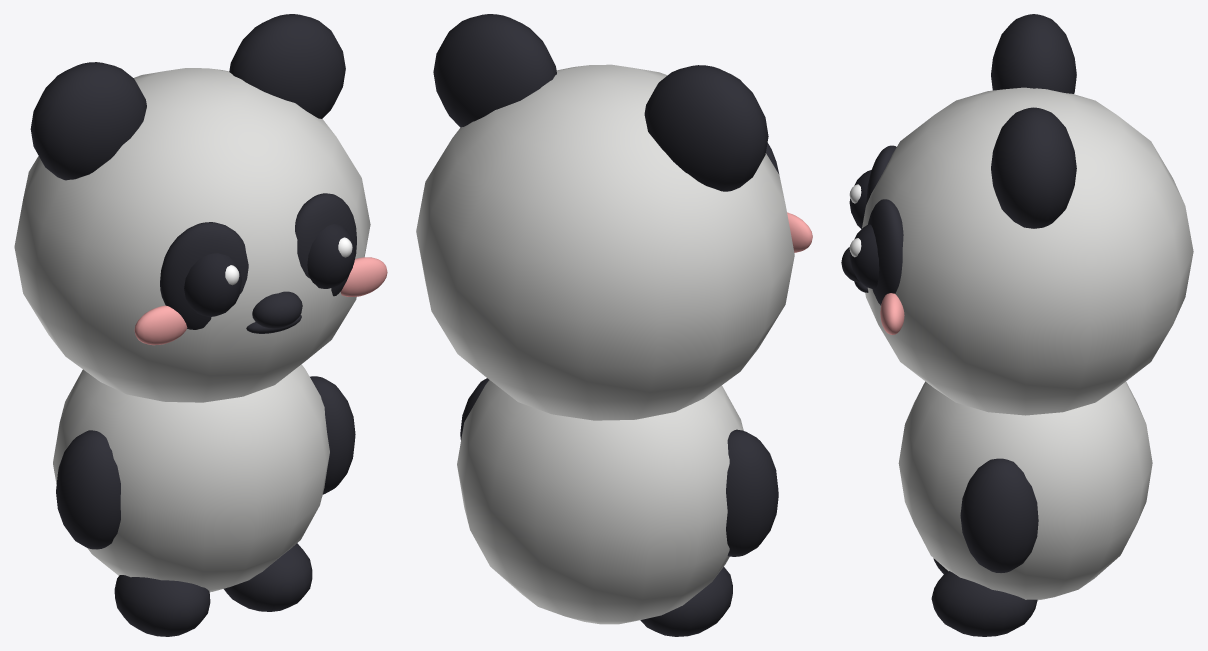
Rendered from gau-truc.glb.
3 views of the same model, side by side, from view 1: azimuth 30°, elevation 25°; view 2: azimuth 150°, elevation 25°; view 3: azimuth 270°, elevation 25° (orthographic). The views are drawn at different scales.
Visible parts, largest first — view 1: Head, Body, eyeL, eyeR; view 2: Head, Body; view 3: Head, Body, eyeR, eyeL.
Part boxes in pixels (x1,y1,x2,y2): Head: (14,14,387,402); Body: (53,364,355,636); eyeL: (184,253,241,316); eyeR: (307,224,355,288); Head: (416,14,812,420); Body: (457,378,778,636); Head: (841,14,1193,415); Body: (898,381,1152,636); eyeR: (849,224,879,289); eyeL: (849,170,871,228).
Size of the model in its own units: 0.86 by 1.46 by 0.86.
